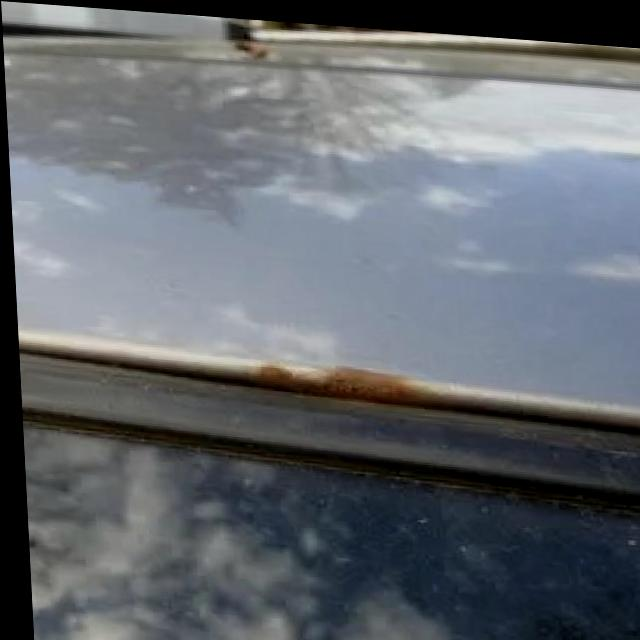Rust: (233, 354, 454, 405)
